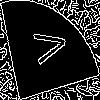V: (25, 25, 69, 68)
